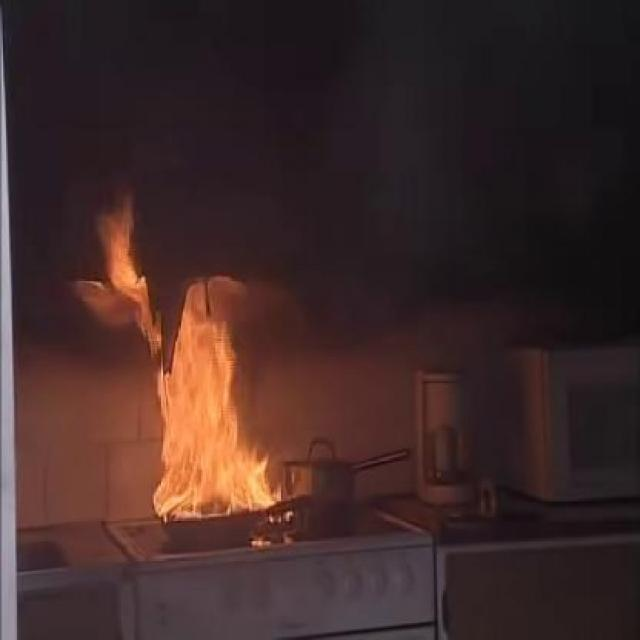fire: (145, 302, 281, 502)
